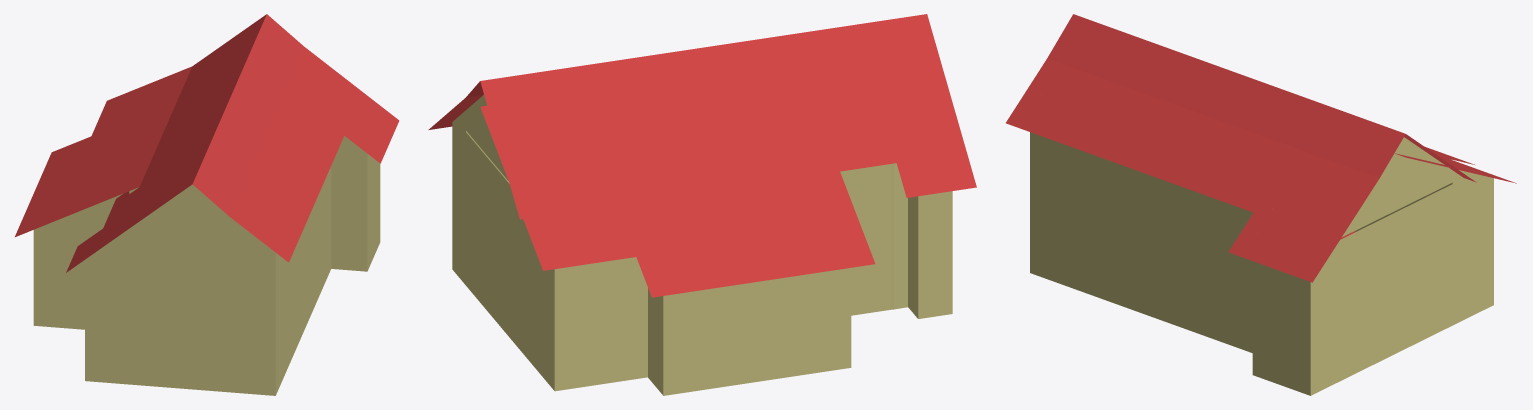
3 views of the same model, side by side, from view 1: azimuth 30°, elevation 25°; view 2: azimuth 150°, elevation 25°; view 3: azimuth 270°, elevation 25° (orthographic). The views are drawn at different scales.
Size of the model in its own units: 28.43 by 29.32 by 14.27.
